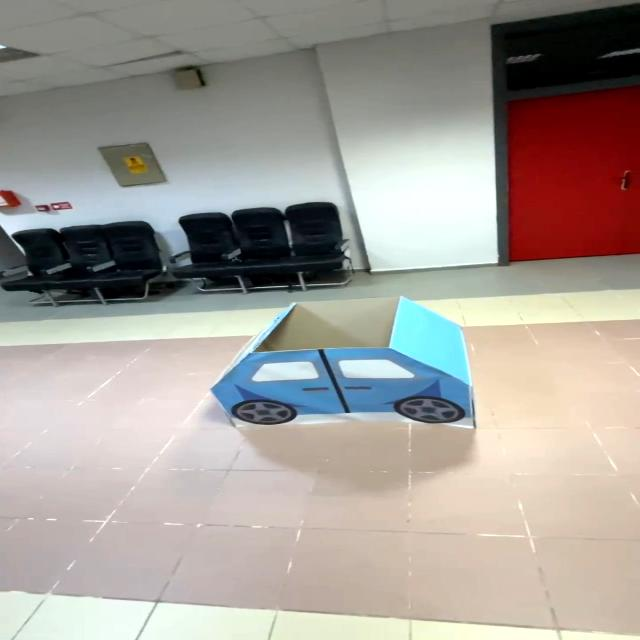blue_car: (156, 282, 515, 458)
